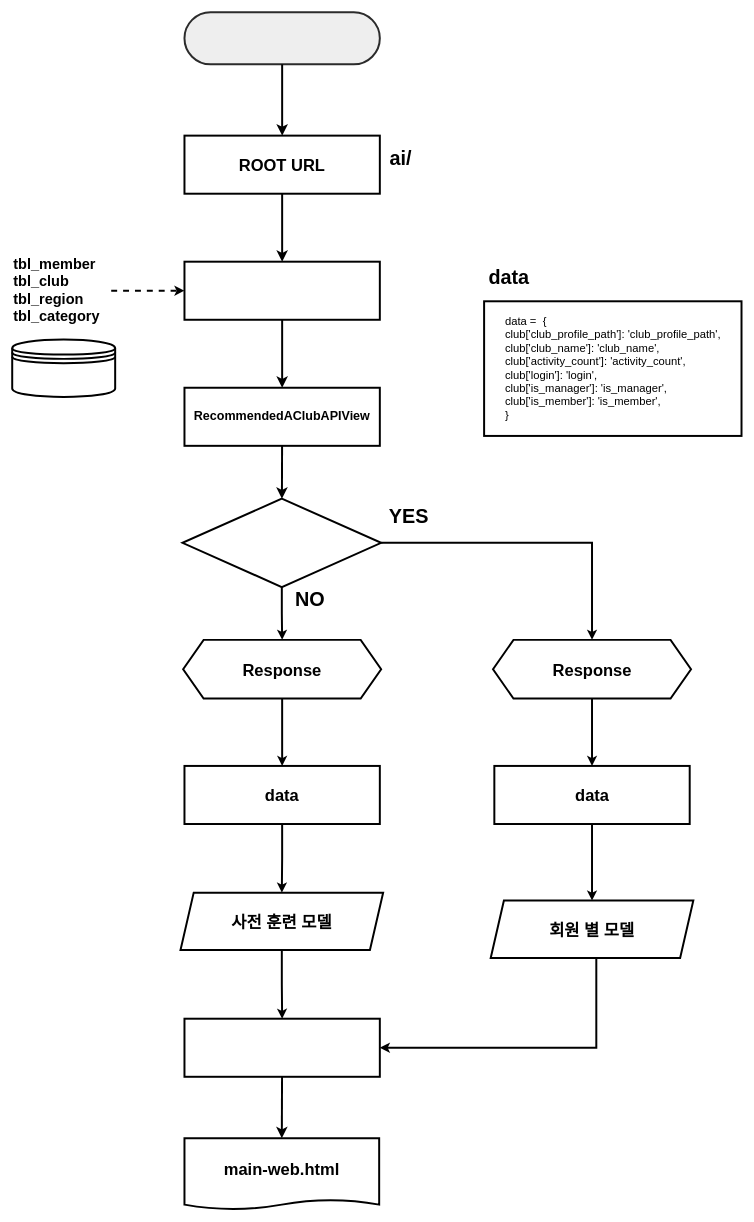
The diagram is 754 pixels wide and 1222 high, and some of its shapes have lost their labels. Each missing label, with the centre of its shape:
ai.urls-web.py: the point at 281,290
MainView: the point at 281,1047
request.session .get('member'): the point at 281,542
START: the point at 281,38
